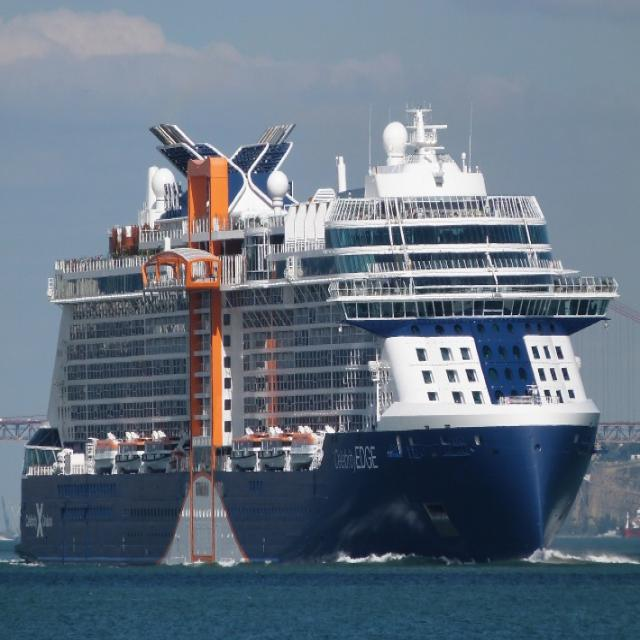cruises: (10, 83, 623, 577)
